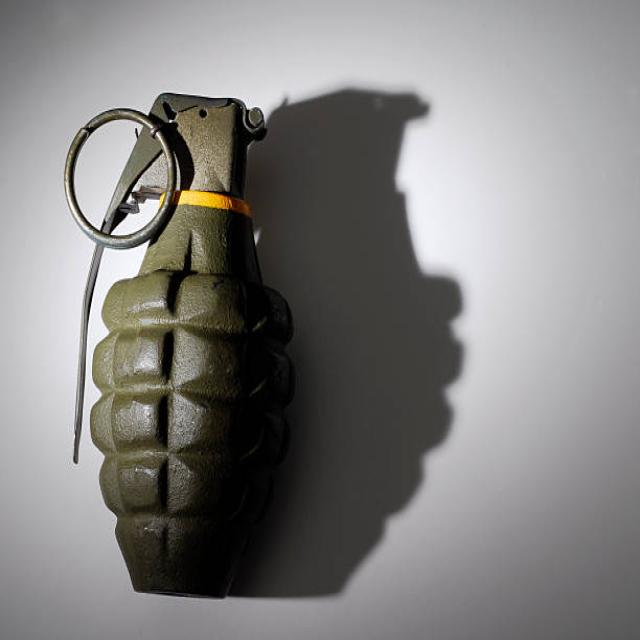grenade: (58, 91, 302, 609)
